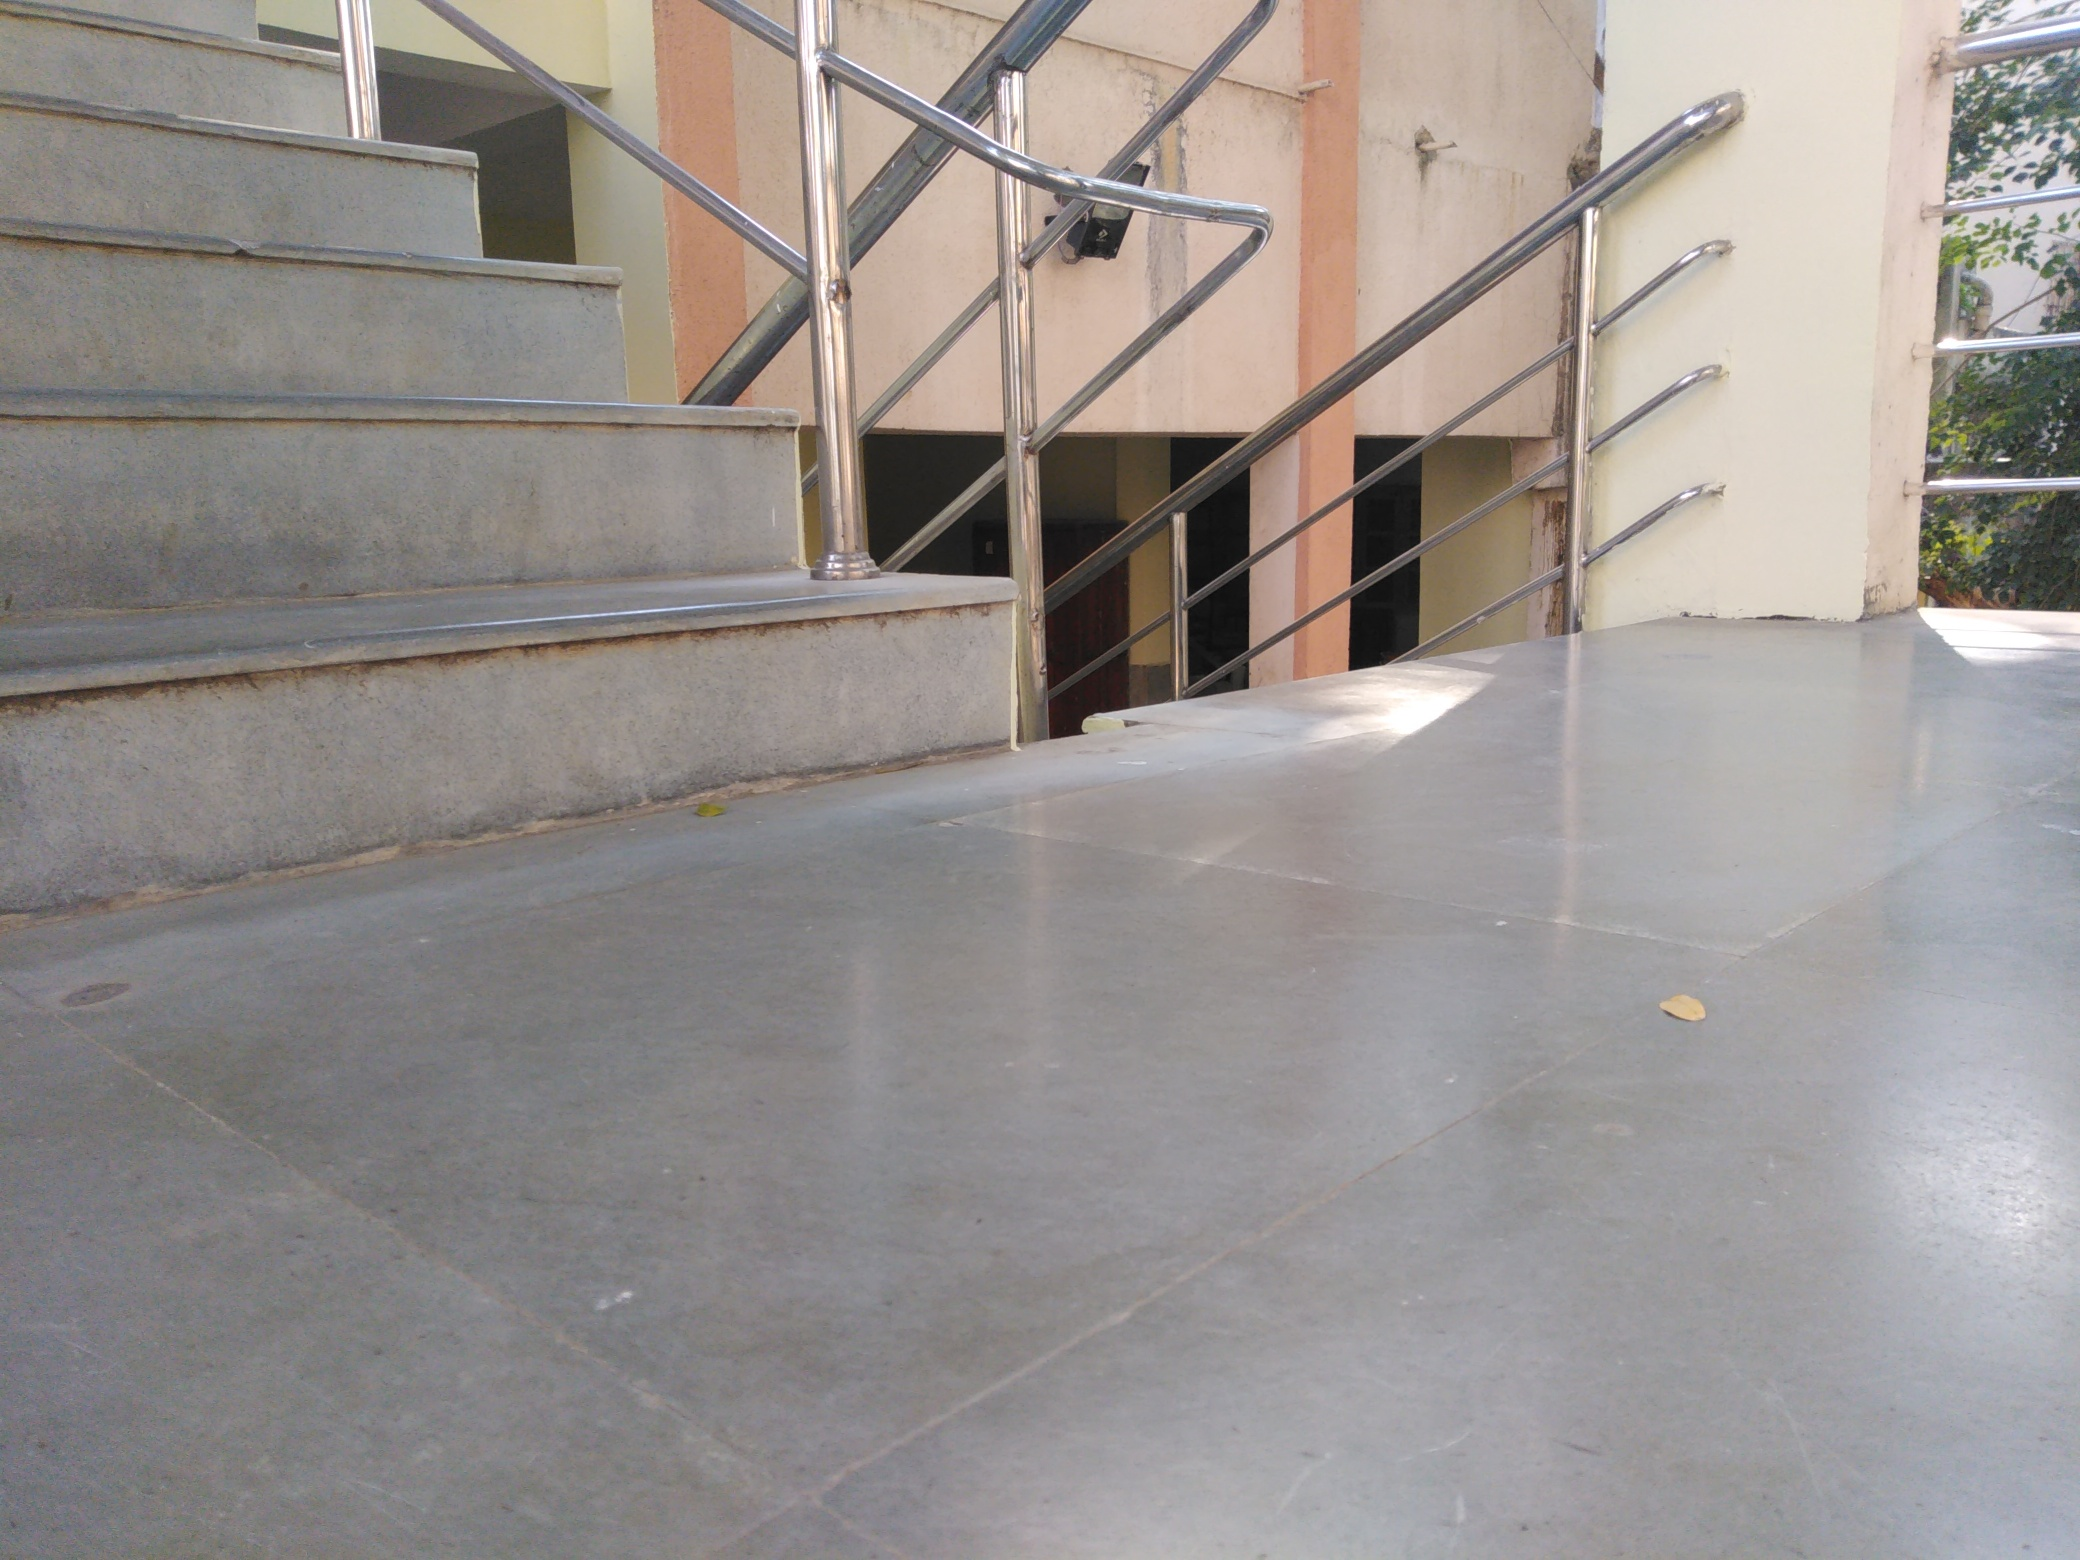stairs_up: (8, 8, 1015, 813)
